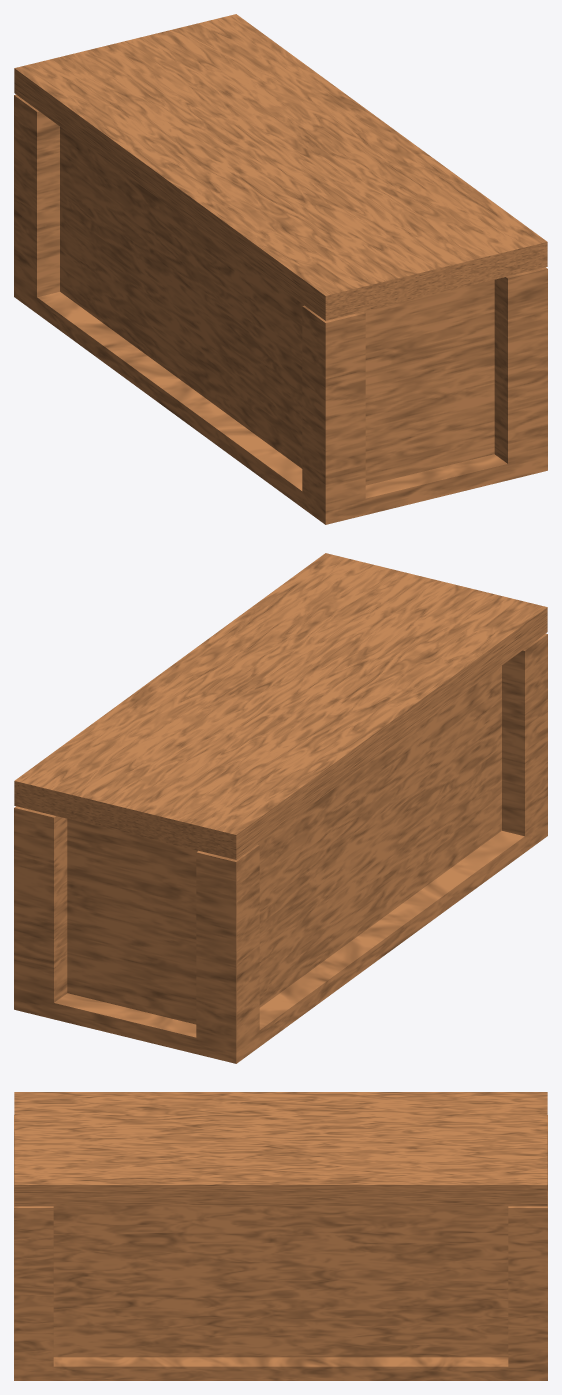
Rendered from Ammo Crate.fbx.
3 views of the same model, one above another, from view 1: azimuth 30°, elevation 25°; view 2: azimuth 150°, elevation 25°; view 3: azimuth 270°, elevation 25° (orthographic). The views are drawn at different scales.
Visible parts, largest first — view 1: Cube, Cube.002; view 2: Cube, Cube.002; view 3: Cube, Cube.002.
Part boxes in pixels (<box>): Cube: <box>14,94,547,524</box>; Cube.002: <box>14,14,547,320</box>; Cube: <box>14,633,547,1063</box>; Cube.002: <box>14,553,547,859</box>; Cube: <box>14,1115,547,1380</box>; Cube.002: <box>14,1092,547,1206</box>.
Size of the model in its own units: 205 by 202 by 498.
2 materials, 2 textured.
